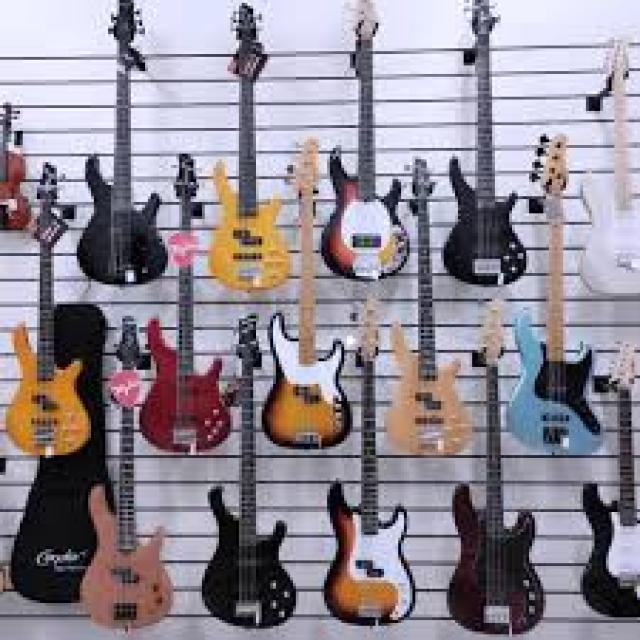acousticguitar: (324, 287, 418, 626), (444, 304, 540, 634), (509, 137, 606, 452), (205, 322, 296, 628), (262, 140, 352, 446), (384, 162, 472, 458), (80, 6, 168, 287), (322, 0, 409, 279), (441, 3, 526, 284), (208, 9, 290, 293), (583, 336, 640, 614), (580, 34, 640, 293)
bass: (82, 304, 174, 629), (3, 176, 96, 457), (145, 160, 230, 452)
